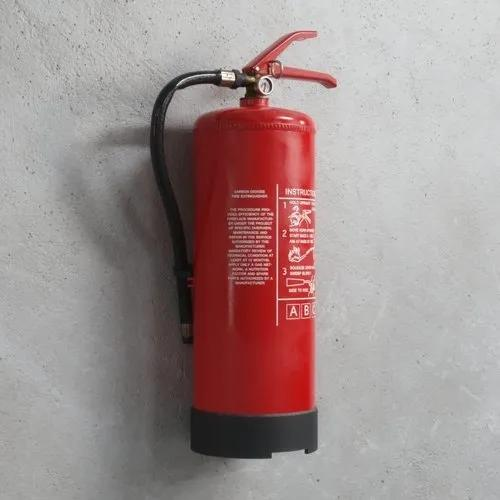wall-mounted: (113, 11, 390, 486)
